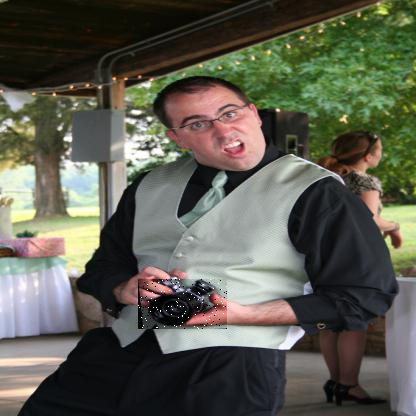Camera: (139, 280, 229, 331)
